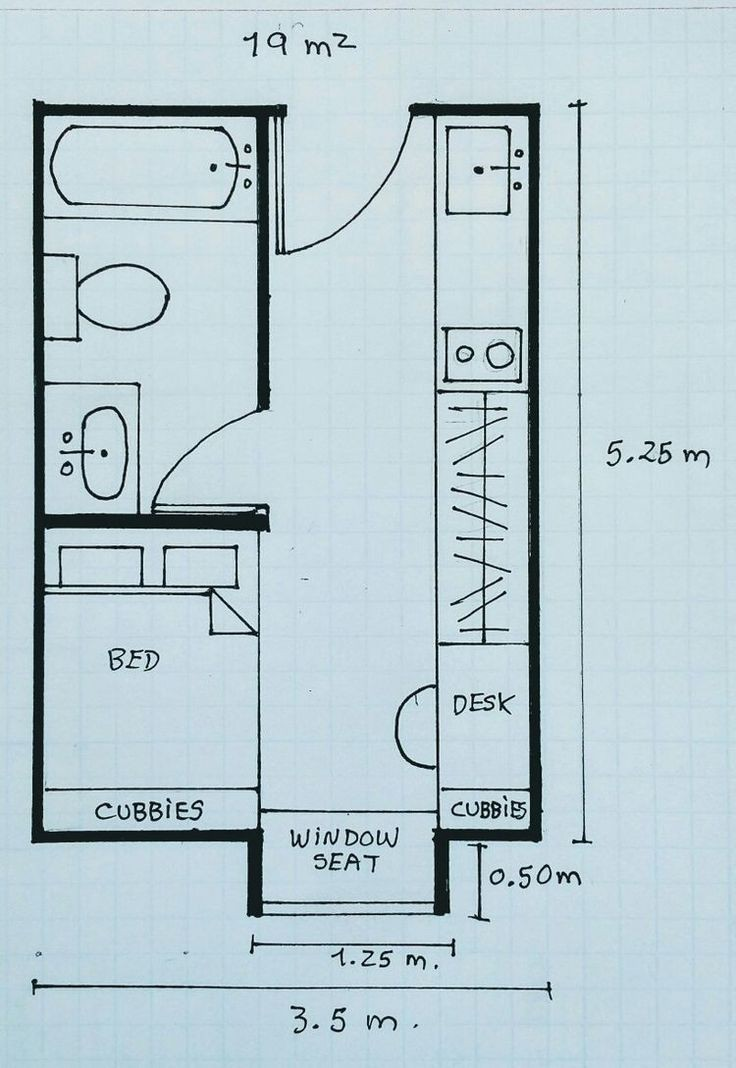door: (270, 99, 419, 273), (149, 396, 281, 517)
room: (21, 83, 572, 945)
wall: (521, 106, 555, 848), (21, 104, 55, 845), (49, 91, 293, 130), (253, 121, 281, 399), (45, 507, 278, 539), (32, 816, 263, 847), (426, 825, 470, 917), (412, 99, 540, 130), (429, 822, 542, 855), (239, 830, 276, 916)
